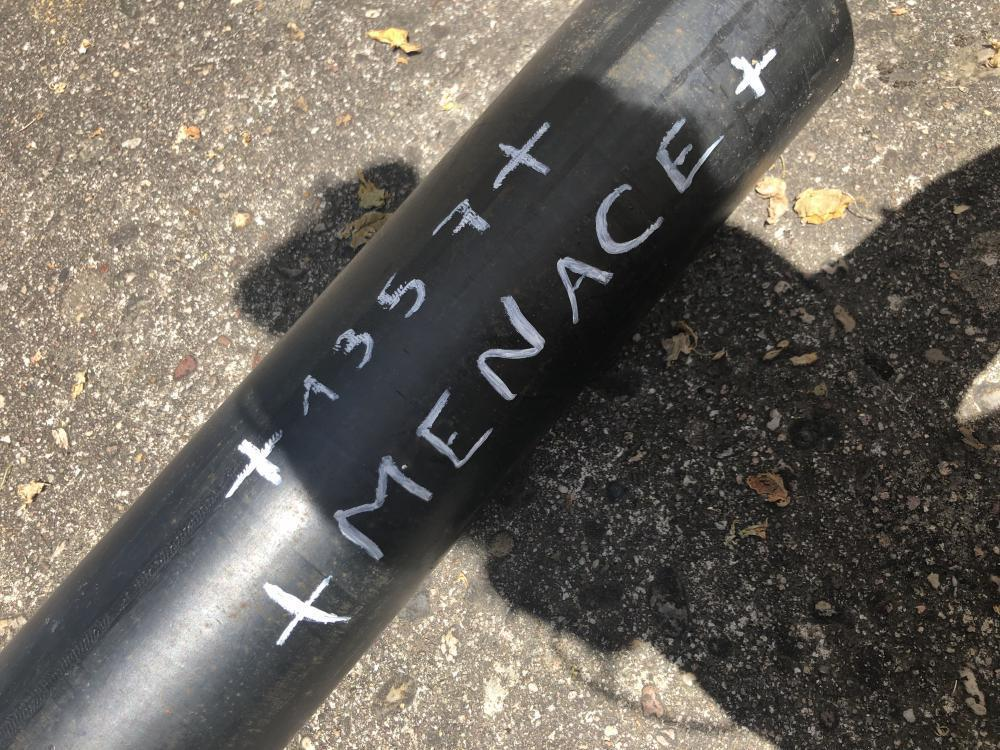+: (264, 578, 352, 642), (494, 122, 552, 190), (230, 432, 284, 500), (731, 47, 777, 97)
1: (303, 372, 340, 413)
3: (335, 322, 375, 369)
5: (379, 271, 425, 317)
7: (434, 197, 491, 239)
A: (553, 256, 612, 319)
C: (595, 182, 666, 259)
E: (418, 388, 490, 472), (660, 118, 726, 190)
M: (338, 454, 434, 558)
N: (477, 295, 546, 403)
